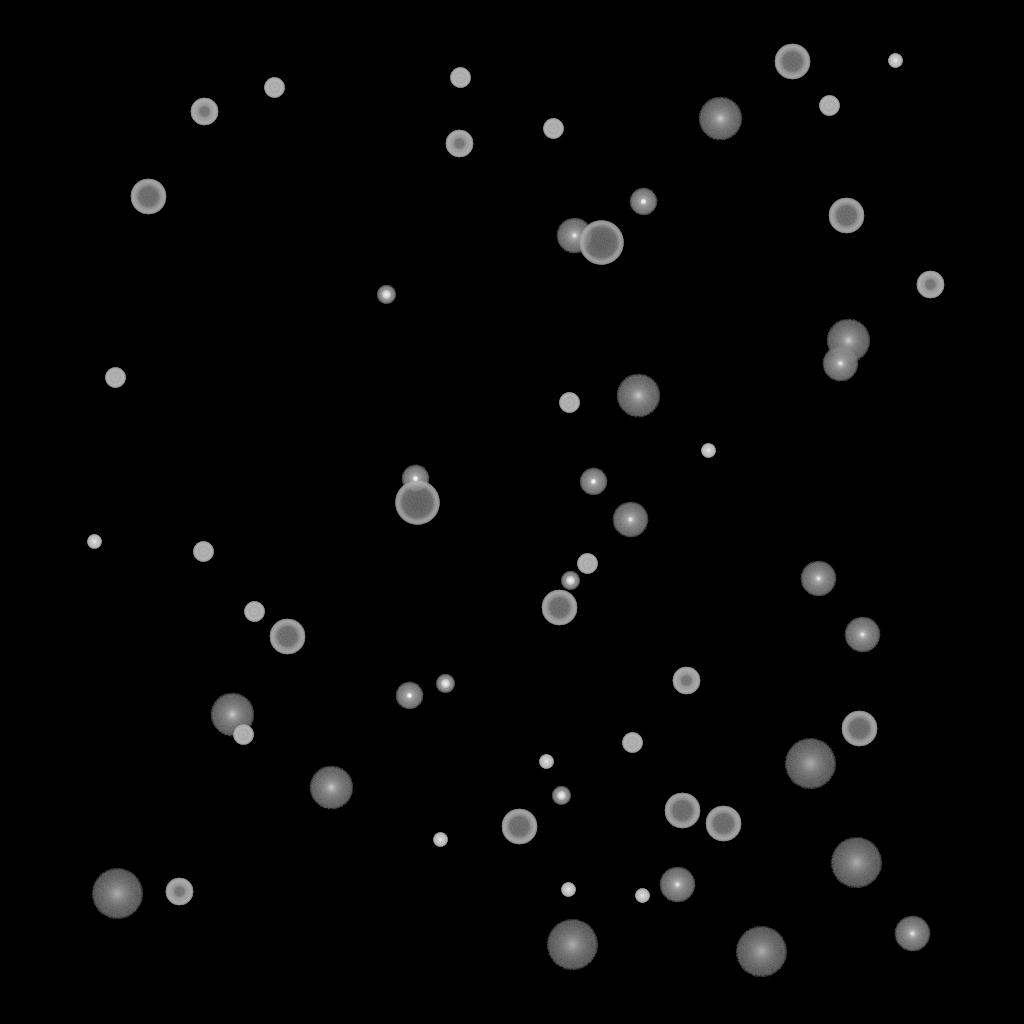depth:-10: (401, 465, 429, 493), (579, 468, 607, 496), (395, 682, 423, 710), (629, 188, 657, 216)
depth:-20: (552, 787, 570, 805), (436, 675, 454, 693), (561, 572, 579, 590), (377, 286, 395, 304)
depth:-30: (701, 444, 715, 458), (888, 54, 902, 68), (87, 535, 101, 549), (635, 889, 649, 903), (561, 883, 575, 897), (539, 755, 553, 769), (433, 833, 447, 847)
depth:-40: (264, 78, 284, 98), (193, 542, 213, 562), (577, 554, 597, 574), (559, 393, 579, 413), (105, 368, 125, 388), (543, 119, 563, 139), (819, 96, 839, 116), (450, 68, 470, 88), (244, 602, 264, 622), (233, 725, 253, 745), (622, 733, 642, 753)
depth:-50: (165, 878, 193, 906), (190, 98, 218, 126), (916, 271, 944, 299), (672, 667, 700, 695), (445, 130, 473, 158)
depth:-60: (501, 809, 537, 845), (841, 711, 877, 747), (130, 179, 166, 215), (828, 198, 864, 234), (269, 619, 305, 655), (705, 806, 741, 842), (541, 590, 577, 626), (664, 793, 700, 829), (774, 44, 810, 80)
depth:-70: (579, 221, 623, 265), (395, 481, 439, 525)
depth:0: (844, 617, 880, 653), (659, 867, 695, 903), (612, 502, 648, 538), (556, 218, 592, 254), (894, 916, 930, 952), (822, 346, 858, 382), (800, 561, 836, 597)
depth:10: (616, 374, 660, 418), (309, 766, 353, 810), (698, 97, 742, 141), (210, 693, 254, 737), (826, 319, 870, 363)
depth:20: (546, 920, 598, 970), (735, 927, 787, 977), (91, 869, 143, 919), (784, 739, 836, 789), (830, 838, 882, 888)
